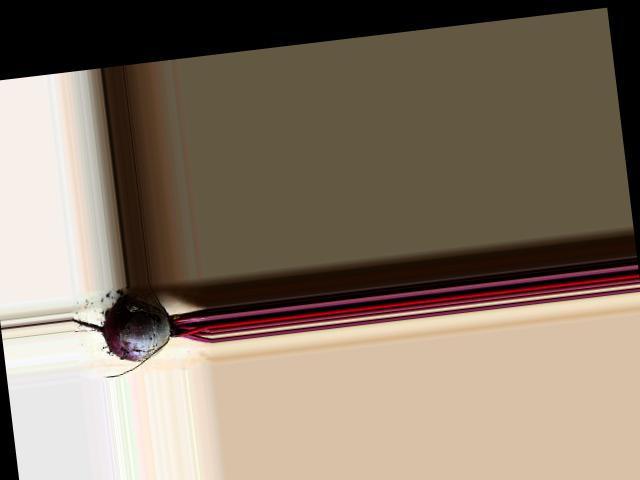beet: (68, 286, 213, 381)
